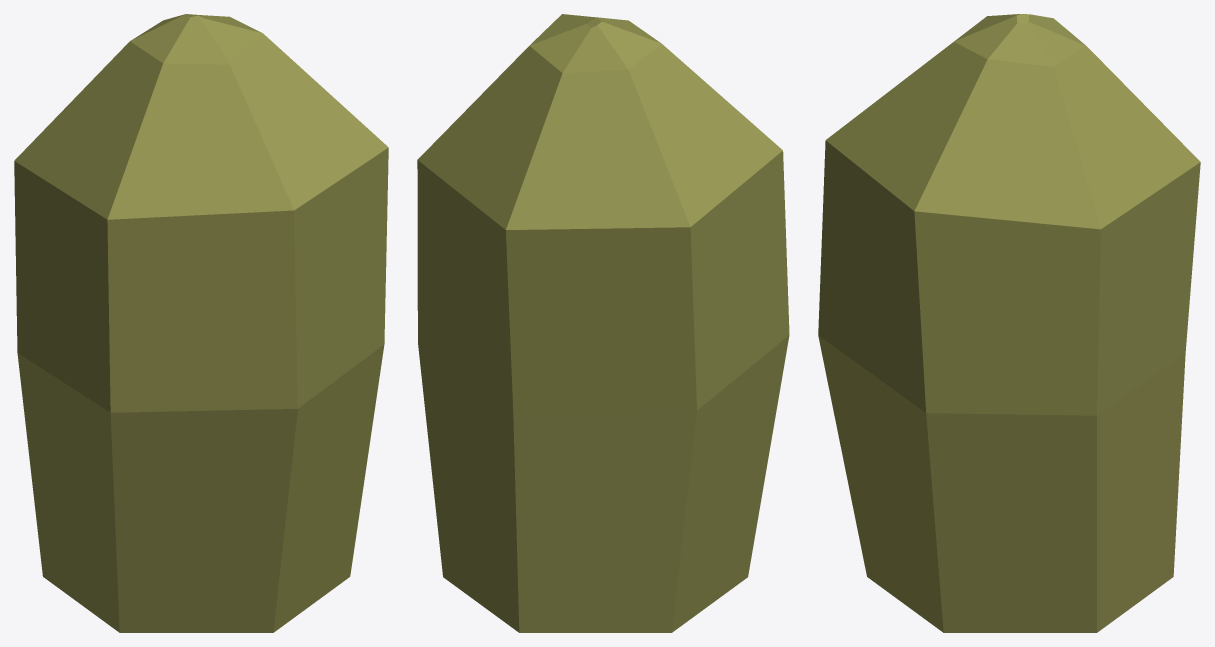
The model's file is Forest_Shrub1.fbx.
3 views of the same model, side by side, from view 1: azimuth 30°, elevation 25°; view 2: azimuth 150°, elevation 25°; view 3: azimuth 270°, elevation 25° (orthographic).
Parts seen in each view (by area): view 1: Cylinder; view 2: Cylinder; view 3: Cylinder.
Part boxes in pixels (<box>): Cylinder: <box>14,14,388,632</box>; Cylinder: <box>417,14,789,632</box>; Cylinder: <box>818,14,1200,632</box>.
Bounding box in the file's own units: 173 × 331 × 204.
